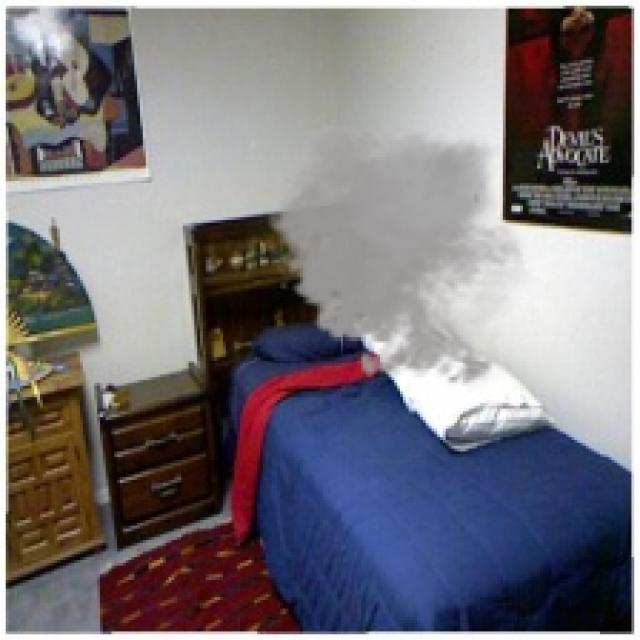smoke: (257, 114, 540, 394)
